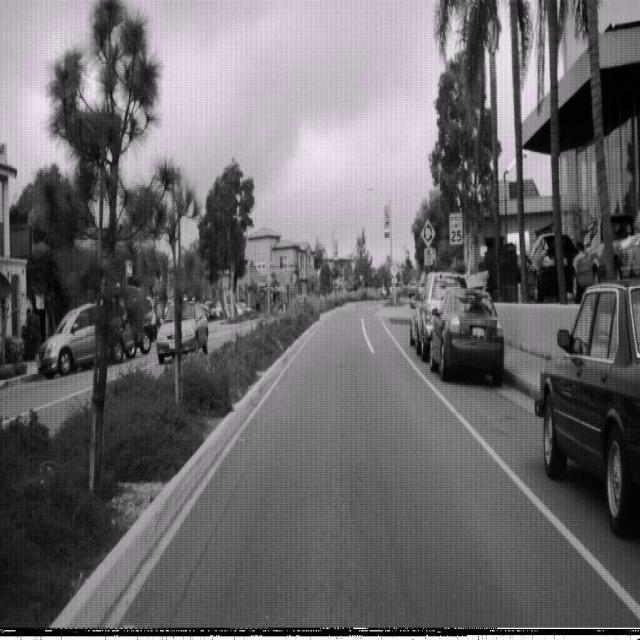speedLimit25: (448, 211, 463, 245)
